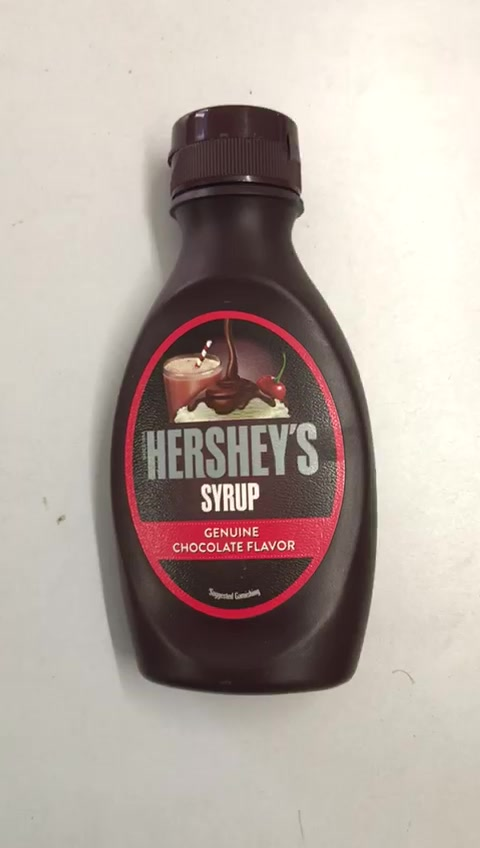hershey: (111, 105, 375, 699)
